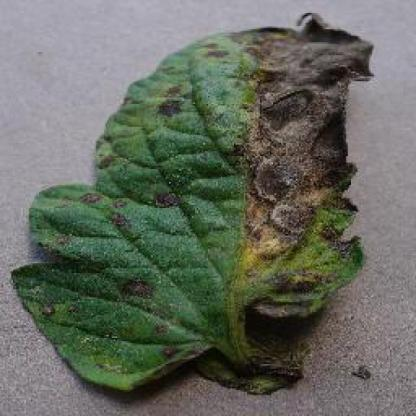Tomato_Blight: (14, 28, 369, 385)
